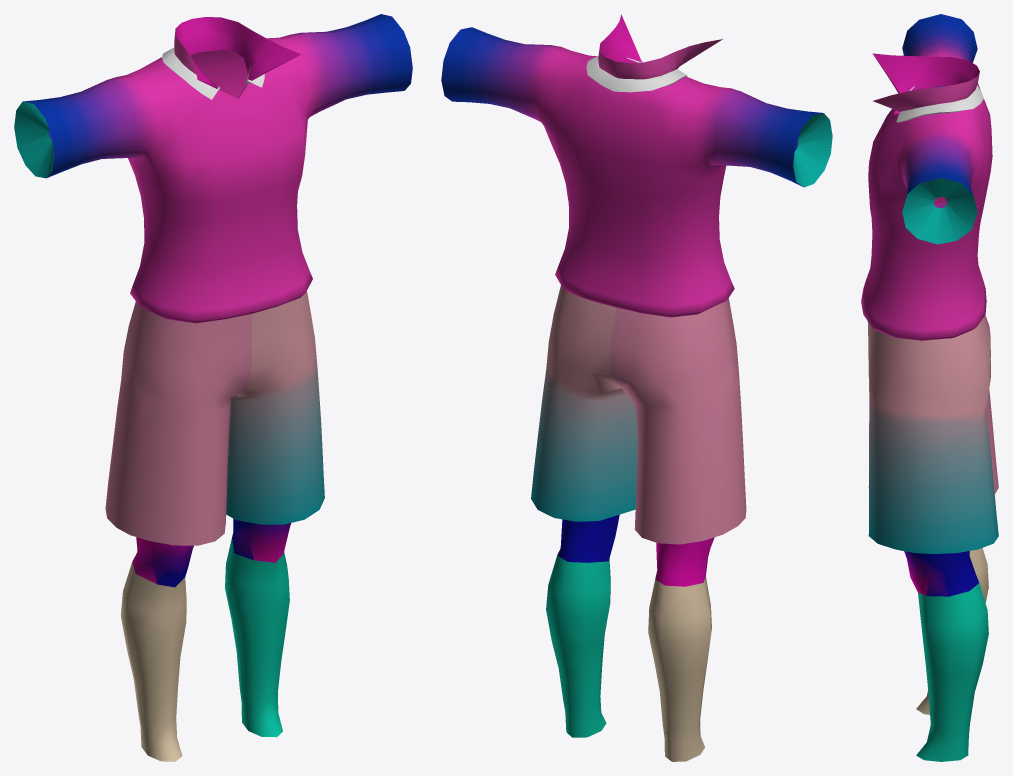
File: 00_Tall.fbx
The picture shows the model from 3 angles, left to right: view 1: azimuth 30°, elevation 25°; view 2: azimuth 150°, elevation 25°; view 3: azimuth 270°, elevation 25°; orthographic projection. The views are drawn at different scales.
Parts seen in each view (by area): view 1: u000105_30, u000105_20, collar_11, collar_10; view 2: u000105_30, u000105_20, collar_11, collar_10; view 3: u000105_30, u000105_20, collar_11, collar_10.
Boxes of the visible parts, <box> form: u000105_30: <box>105,291,324,761</box>; u000105_20: <box>14,14,412,323</box>; collar_11: <box>174,17,300,88</box>; collar_10: <box>162,47,264,99</box>; u000105_30: <box>531,285,746,761</box>; u000105_20: <box>441,27,832,317</box>; collar_11: <box>598,14,722,79</box>; collar_10: <box>586,56,687,92</box>; u000105_30: <box>867,315,998,761</box>; u000105_20: <box>861,14,992,340</box>; collar_11: <box>872,53,979,111</box>; collar_10: <box>896,85,983,122</box>.
Bounding box in the file's own units: 77.37 × 146 × 27.5.
